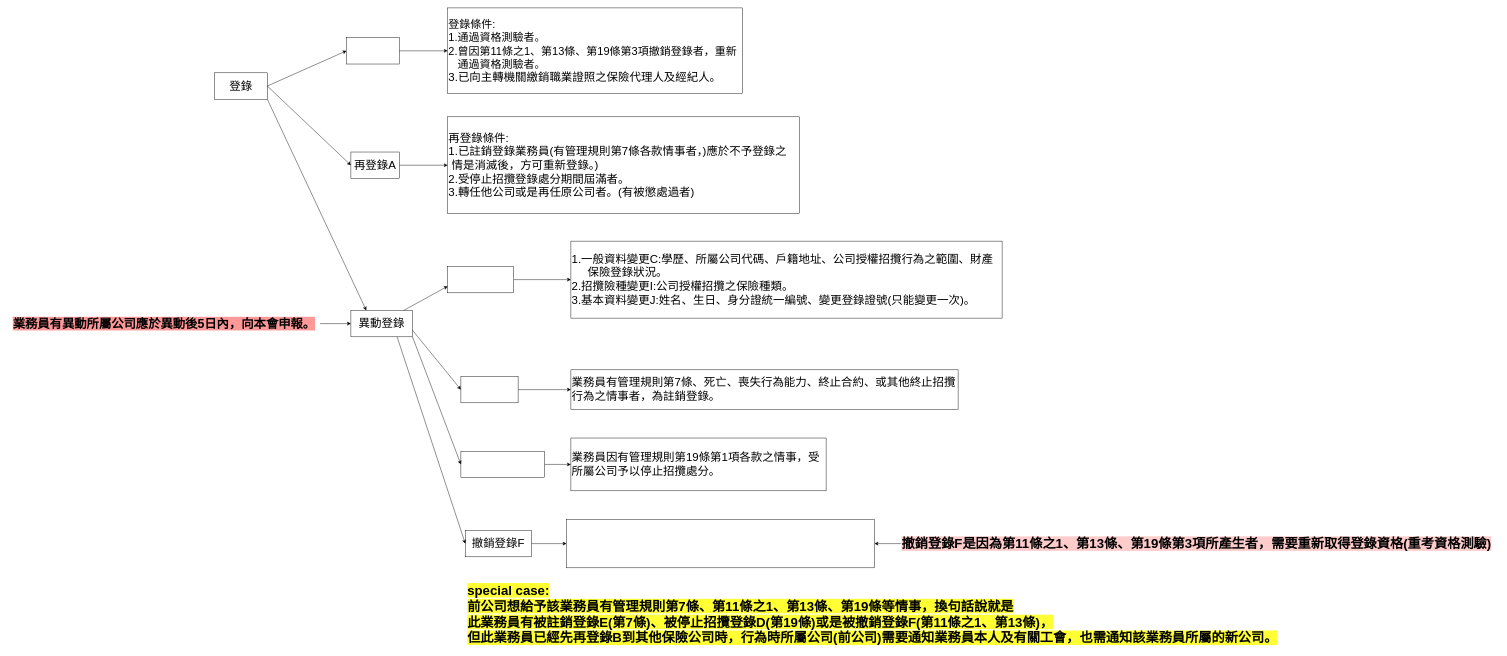
Some shapes in this 1507 by 656 pixel diagram are drawn without their labels. Each missing label, with the centre of its shape:
停止招攬登錄D: (x=502, y=464)
新登錄A: (x=372, y=50)
業務員因有管理規則第11條之1、第13條、第19條第3項等情事，受所屬公司予以撤銷登錄處分。: (x=720, y=543)
註銷登錄E: (x=489, y=389)
變更登錄C: (x=480, y=279)
